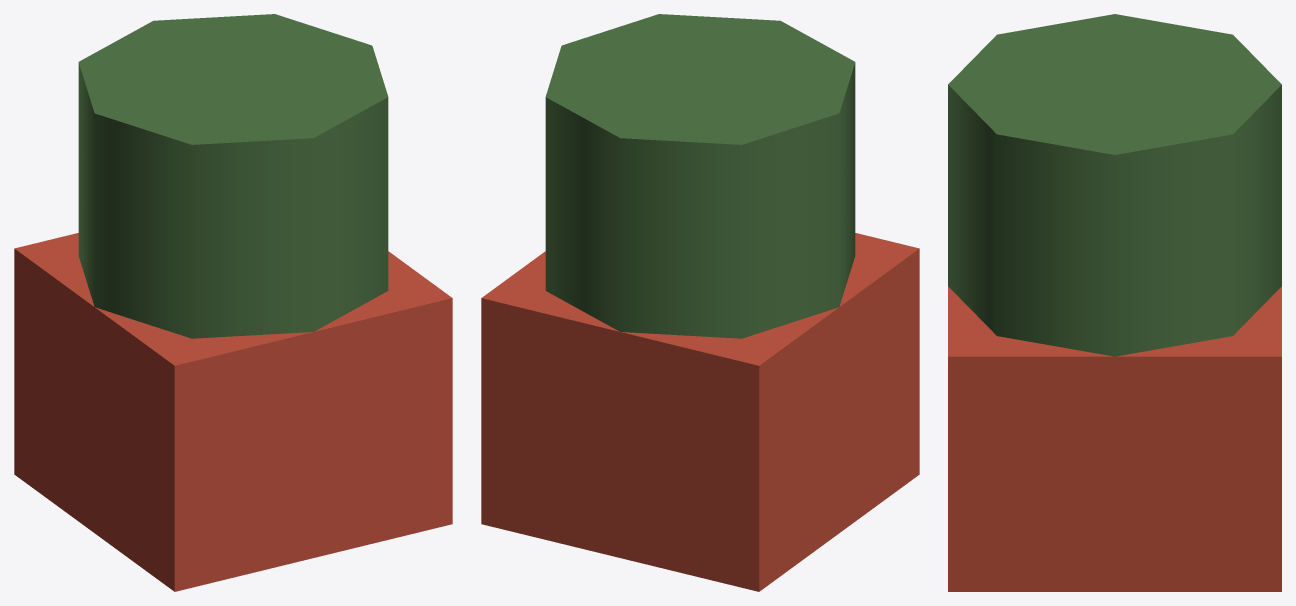
Rendered from planter.glb.
3 renders of one model, left to right at view 1: azimuth 30°, elevation 25°; view 2: azimuth 150°, elevation 25°; view 3: azimuth 270°, elevation 25°, orthographic. The views are drawn at different scales.
Visible parts, largest first — view 1: _MeshInstance3D_357, _MeshInstance3D_360; view 2: _MeshInstance3D_357, _MeshInstance3D_360; view 3: _MeshInstance3D_360, _MeshInstance3D_357.
Boxes of the visible parts, x1,y1,x2,y2 form: _MeshInstance3D_357: [14, 233, 452, 591]; _MeshInstance3D_360: [78, 14, 388, 338]; _MeshInstance3D_357: [481, 233, 919, 591]; _MeshInstance3D_360: [545, 14, 855, 338]; _MeshInstance3D_360: [948, 14, 1281, 356]; _MeshInstance3D_357: [948, 286, 1281, 591].
Size of the model in its own units: 0.9 by 1.3 by 0.9.
